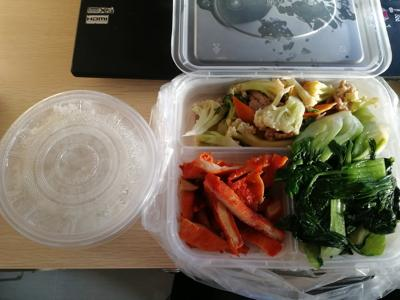cch: (171, 75, 394, 139)
ymc: (291, 128, 397, 264)
